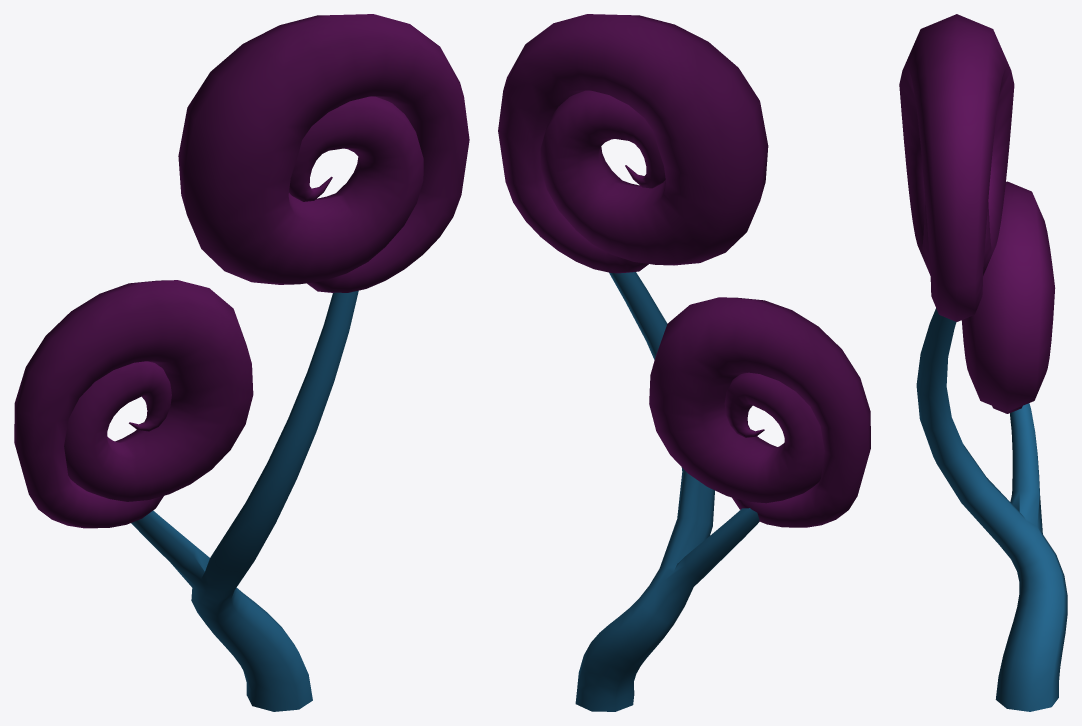
Rendered from Tree_Swirl.glb.
3 views of the same model, side by side, from view 1: azimuth 30°, elevation 25°; view 2: azimuth 150°, elevation 25°; view 3: azimuth 270°, elevation 25° (orthographic). The views are drawn at different scales.
Parts seen in each view (by area): view 1: Tree_Swirl_1; view 2: Tree_Swirl_1; view 3: Tree_Swirl_1.
Part boxes in pixels (x1,y1,x2,y2): Tree_Swirl_1: (14, 14, 469, 711); Tree_Swirl_1: (498, 14, 870, 711); Tree_Swirl_1: (899, 14, 1067, 711).
Size of the model in its own units: 4.61 by 7.35 by 1.68.
